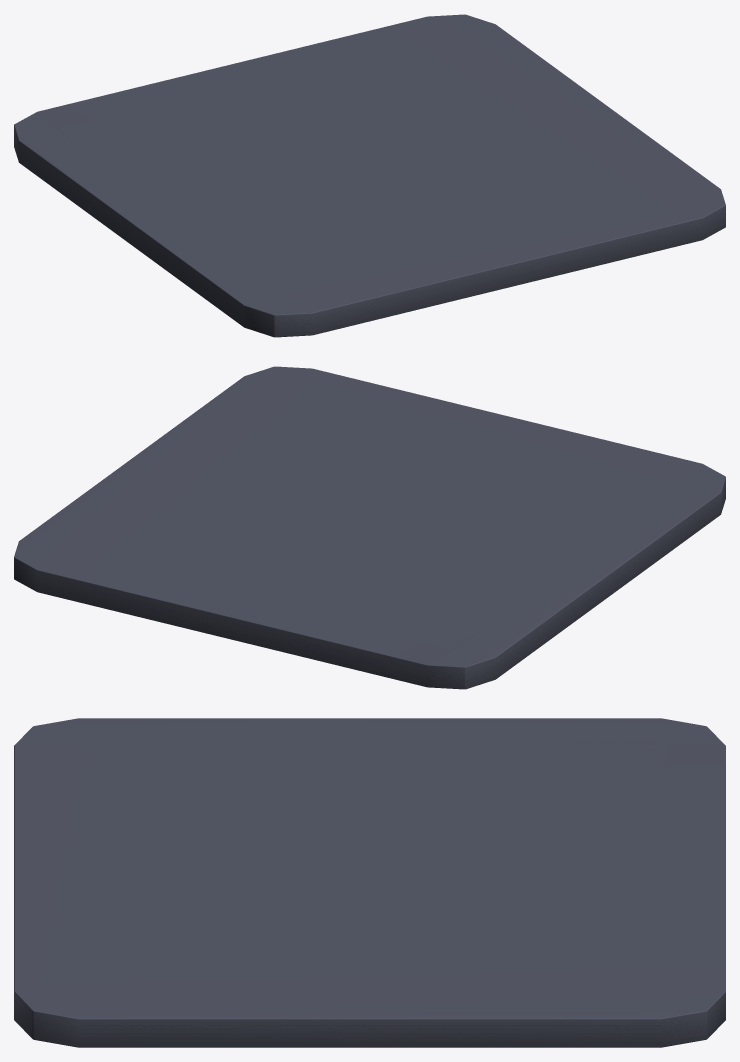
Rendered from roof-flat-patch.glb.
The picture shows the model from 3 angles, top to bottom: view 1: azimuth 30°, elevation 25°; view 2: azimuth 150°, elevation 25°; view 3: azimuth 270°, elevation 25°; orthographic projection. The views are drawn at different scales.
Visible parts, largest first — view 1: roof-flat-patch; view 2: roof-flat-patch; view 3: roof-flat-patch.
Boxes of the visible parts, x1,y1,x2,y2 form: roof-flat-patch: [14, 14, 725, 337]; roof-flat-patch: [14, 366, 725, 689]; roof-flat-patch: [14, 718, 725, 1047].
Size of the model in its own units: 1.1 by 0.05 by 1.1.
1 material, 1 textured.
